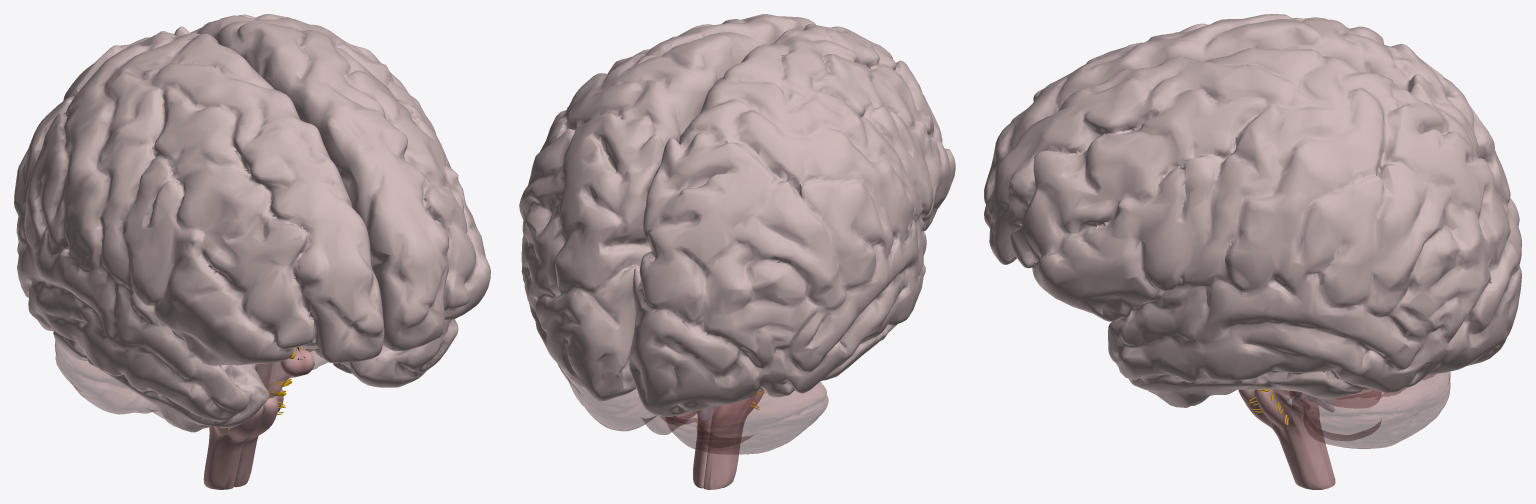
Rendered from limbic-system-optimized.glb.
The picture shows the model from 3 angles, left to right: view 1: azimuth 30°, elevation 25°; view 2: azimuth 150°, elevation 25°; view 3: azimuth 270°, elevation 25°; orthographic projection. The views are drawn at different scales.
Parts seen in each view (by area): view 1: mesh17, mesh16, mesh60, mesh61, mesh20; view 2: mesh17, mesh16, mesh60, mesh46, mesh61; view 3: mesh17, mesh46, mesh61, mesh16.
Boxes of the visible parts, x1=… form: mesh17: x1=14, y1=14, x2=490, y2=432; mesh16: x1=54, y1=340, x2=164, y2=418; mesh60: x1=203, y1=405, x2=263, y2=489; mesh61: x1=234, y1=376, x2=283, y2=487; mesh20: x1=257, y1=361, x2=288, y2=398; mesh17: x1=519, y1=14, x2=955, y2=416; mesh16: x1=665, y1=382, x2=828, y2=454; mesh60: x1=703, y1=390, x2=764, y2=489; mesh46: x1=558, y1=364, x2=701, y2=434; mesh61: x1=693, y1=407, x2=713, y2=488; mesh17: x1=984, y1=14, x2=1521, y2=407; mesh46: x1=1289, y1=372, x2=1450, y2=448; mesh61: x1=1238, y1=389, x2=1335, y2=489; mesh16: x1=1326, y1=374, x2=1435, y2=408.
Bounding box in the file's own units: 2.58 × 3 × 3.28.
Materials: 41 (41 with a texture image).
